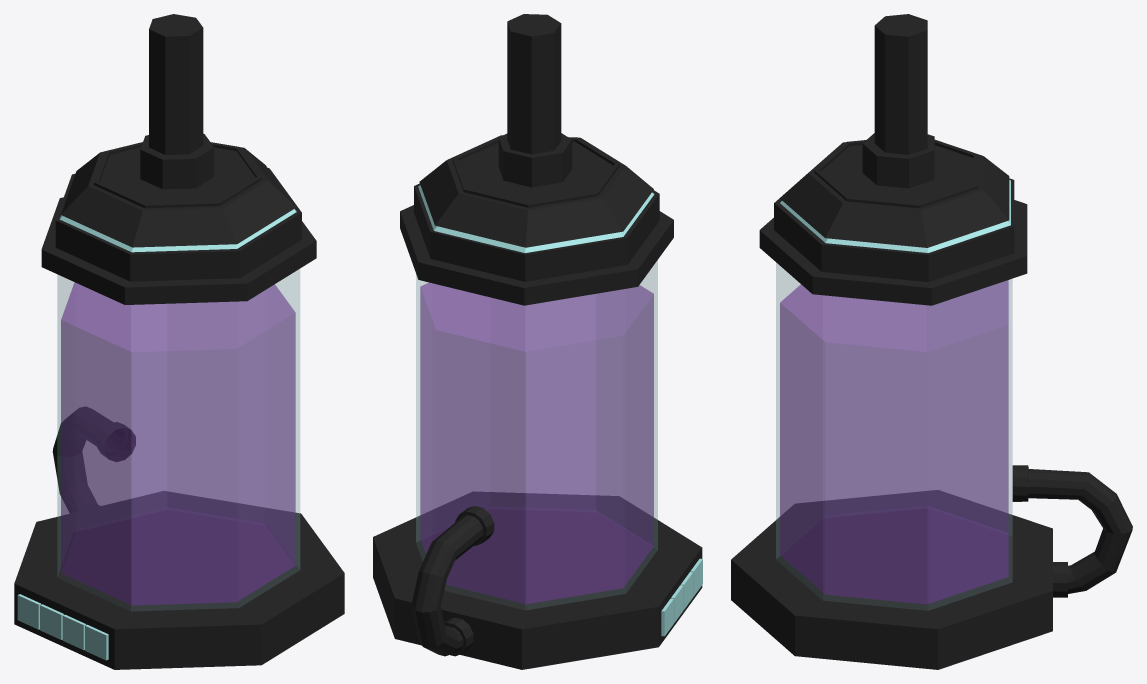
The model's file is vat.fbx.
The picture shows the model from 3 angles, left to right: view 1: azimuth 30°, elevation 25°; view 2: azimuth 150°, elevation 25°; view 3: azimuth 270°, elevation 25°; orthographic projection.
Parts seen in each view (by area): view 1: vat, liquid; view 2: vat, liquid; view 3: vat, liquid.
Part boxes in pixels (left/top/right/bottom): vat: left=14, top=14, right=344, bottom=669; liquid: left=61, top=282, right=295, bottom=605; vat: left=373, top=14, right=702, bottom=669; liquid: left=420, top=282, right=653, bottom=604; vat: left=731, top=14, right=1132, bottom=669; liquid: left=780, top=280, right=1008, bottom=604.
Bounding box in the file's own units: 1.57 × 1.9 × 3.
